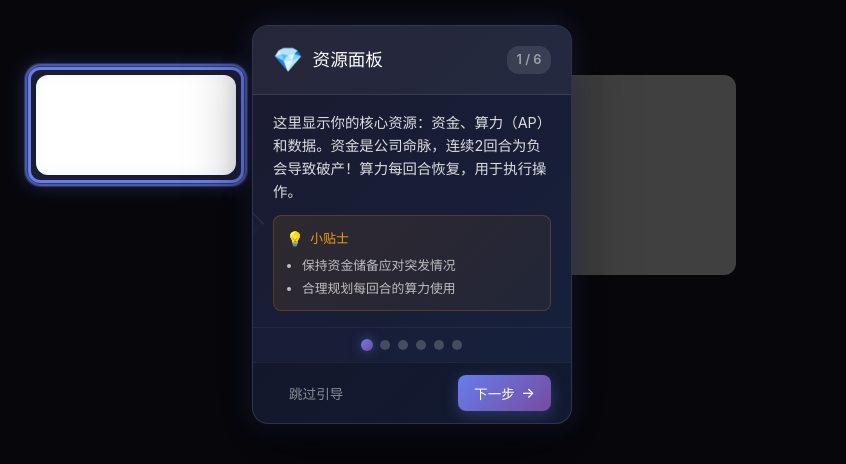
OnboardingGuide 组件单元测试 › 进度指示器 › 点击进度点应该跳转到对应步骤
The width and height of the screenshot is (846, 464).
// 点击第三个进度点
Click the button named "跳转到步骤 3". click: [403, 345]
box: [398,340,408,350]
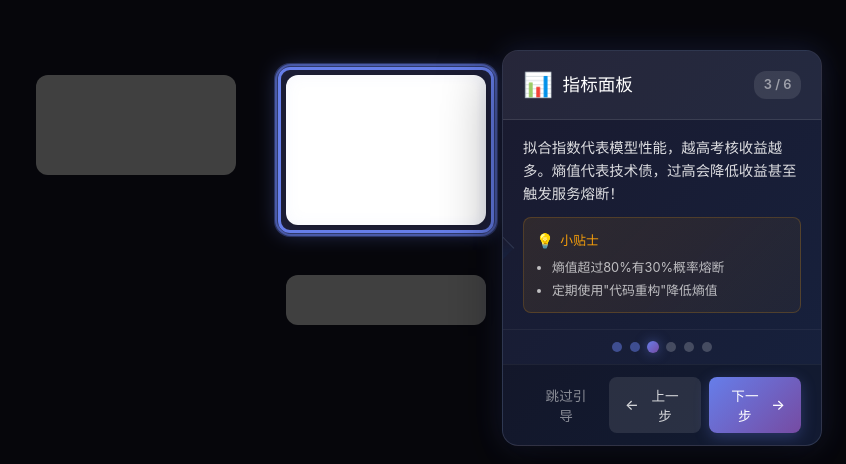
Now the heading "指标面板" is shown, box [562,72,633,98]
